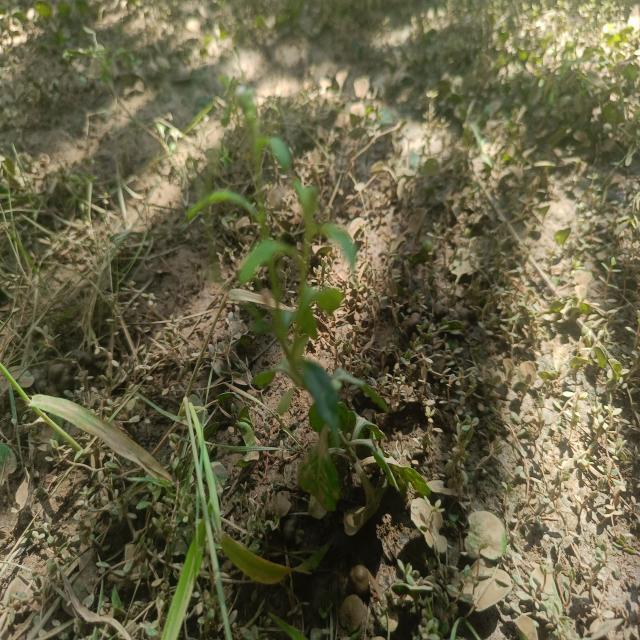weed: (183, 131, 429, 514)
